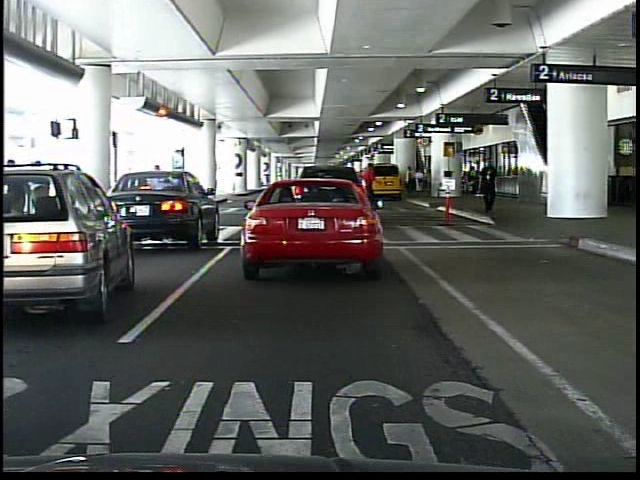person: (146, 160, 172, 229), (361, 160, 380, 218), (480, 158, 498, 215), (404, 161, 417, 197)
